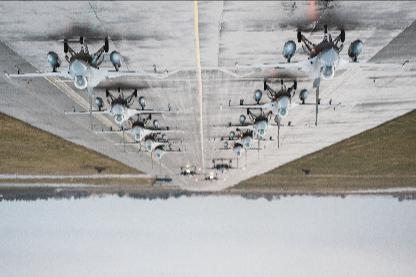F14: (236, 25, 410, 126), (5, 36, 169, 132), (221, 79, 342, 148), (64, 87, 180, 151), (214, 107, 308, 158), (96, 114, 184, 162), (114, 129, 188, 169), (210, 128, 284, 166), (129, 139, 191, 173), (206, 142, 272, 172)
F22: (200, 158, 246, 178), (170, 166, 209, 182), (197, 174, 227, 186), (148, 175, 174, 187)
